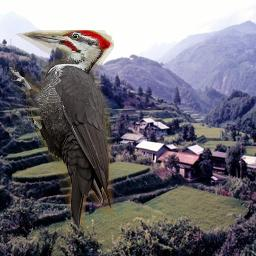Woodpecker: (9, 30, 114, 235)
